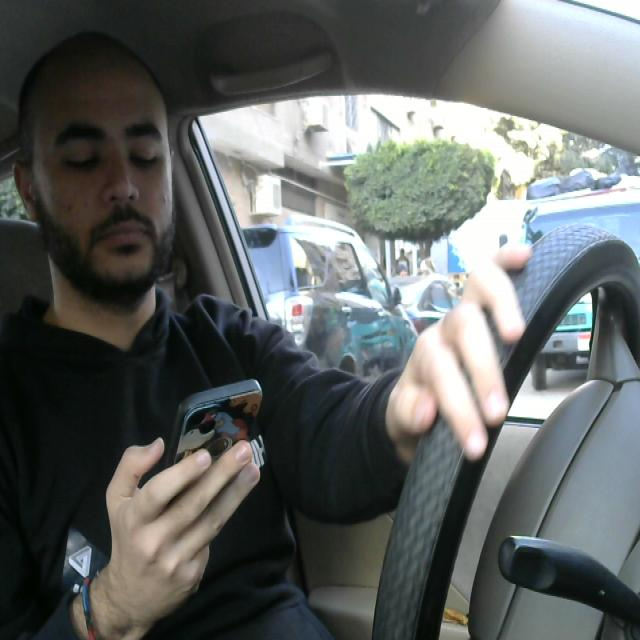mobile use: (163, 360, 264, 550)
